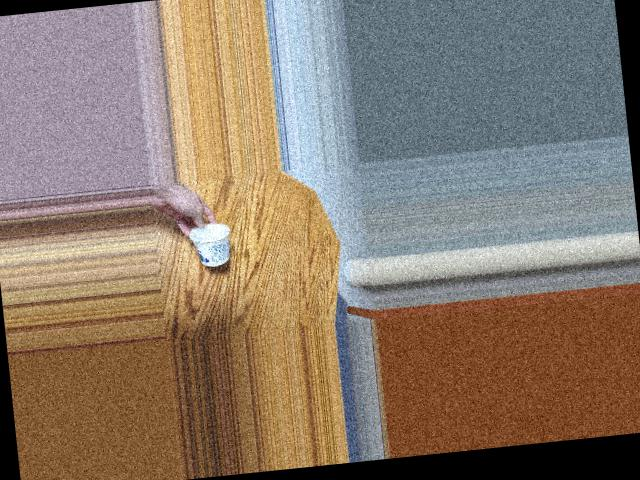cotage: (186, 214, 236, 263)
